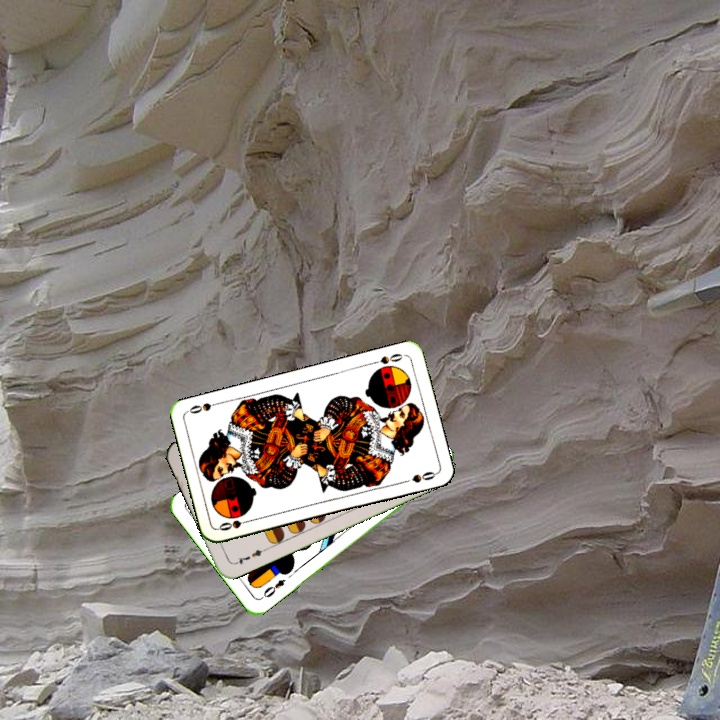E7: (230, 545, 269, 567)
EO: (257, 575, 288, 602)
SO: (215, 515, 255, 533), (367, 349, 407, 367)
